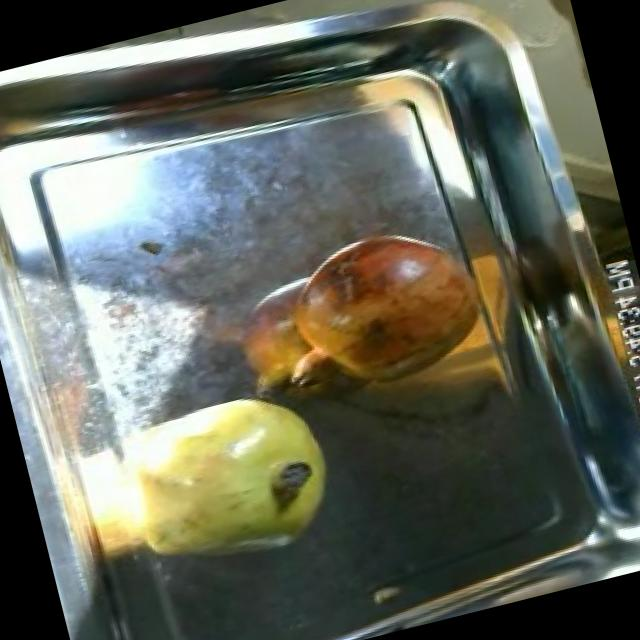fruit: (85, 358, 364, 604), (261, 206, 504, 412)
